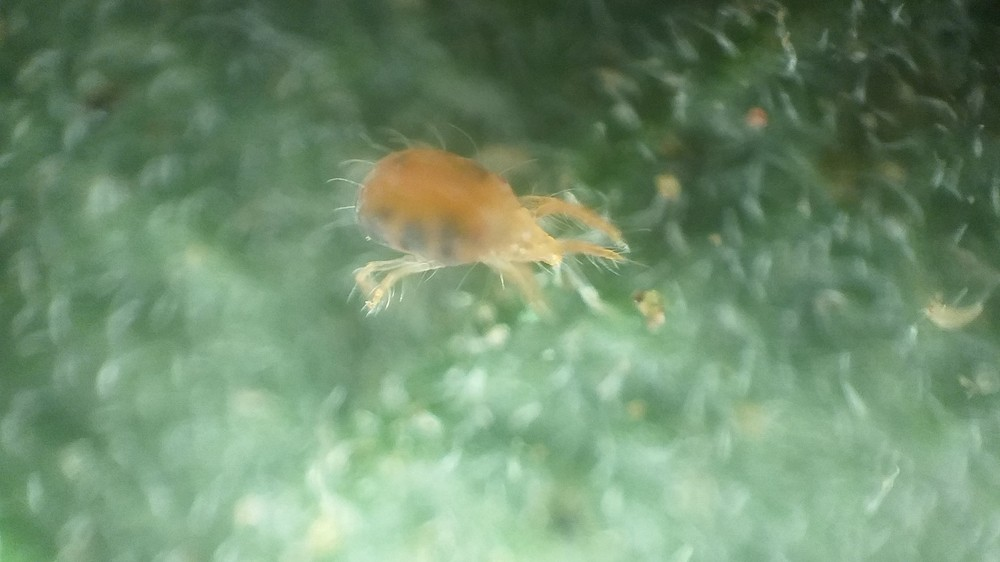Aracnido Rojo: (303, 101, 656, 342)
